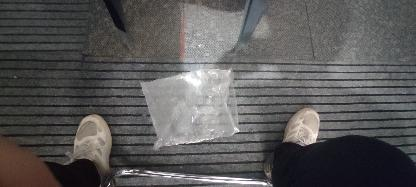Plastic Bag: (140, 68, 240, 150)
